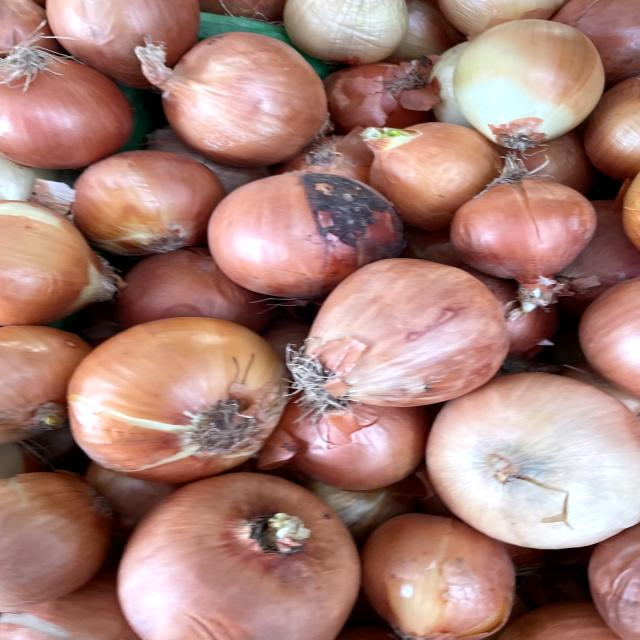onion: (113, 469, 367, 640), (276, 248, 529, 419), (412, 364, 640, 553), (59, 314, 296, 487), (132, 24, 341, 170), (433, 19, 616, 149)
